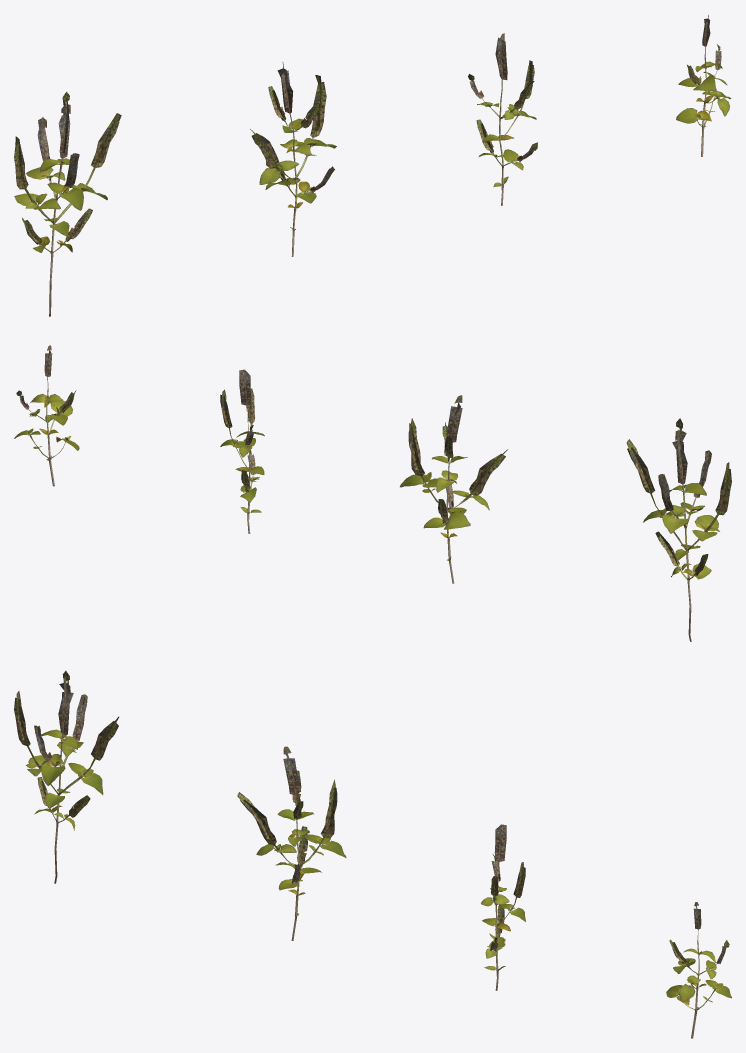
File: shrub_03.gltf
The picture shows the model from 3 angles, top to bottom: view 1: azimuth 30°, elevation 25°; view 2: azimuth 150°, elevation 25°; view 3: azimuth 330°, elevation 25°; orthographic projection. The views are drawn at different scales.
Parts seen in each view (by area): view 1: shrub_03_a, shrub_03_b, shrub_03_c, shrub_03_d; view 2: shrub_03_a, shrub_03_b, shrub_03_c, shrub_03_d; view 3: shrub_03_a, shrub_03_b, shrub_03_c, shrub_03_d.
Boxes of the visible parts, x1,y1,x2,y2 form: shrub_03_a: (14,91,121,316); shrub_03_b: (250,62,336,256); shrub_03_c: (468,33,537,205); shrub_03_d: (676,15,731,156); shrub_03_a: (626,418,731,641); shrub_03_b: (400,395,507,583); shrub_03_c: (220,369,264,533); shrub_03_d: (14,345,79,486); shrub_03_a: (14,670,118,883); shrub_03_b: (237,746,346,940); shrub_03_c: (481,824,525,990); shrub_03_d: (666,902,731,1038).
Bounding box in the file's own units: 1.37 × 0.4028 × 0.1512.
1 material, 1 textured.
